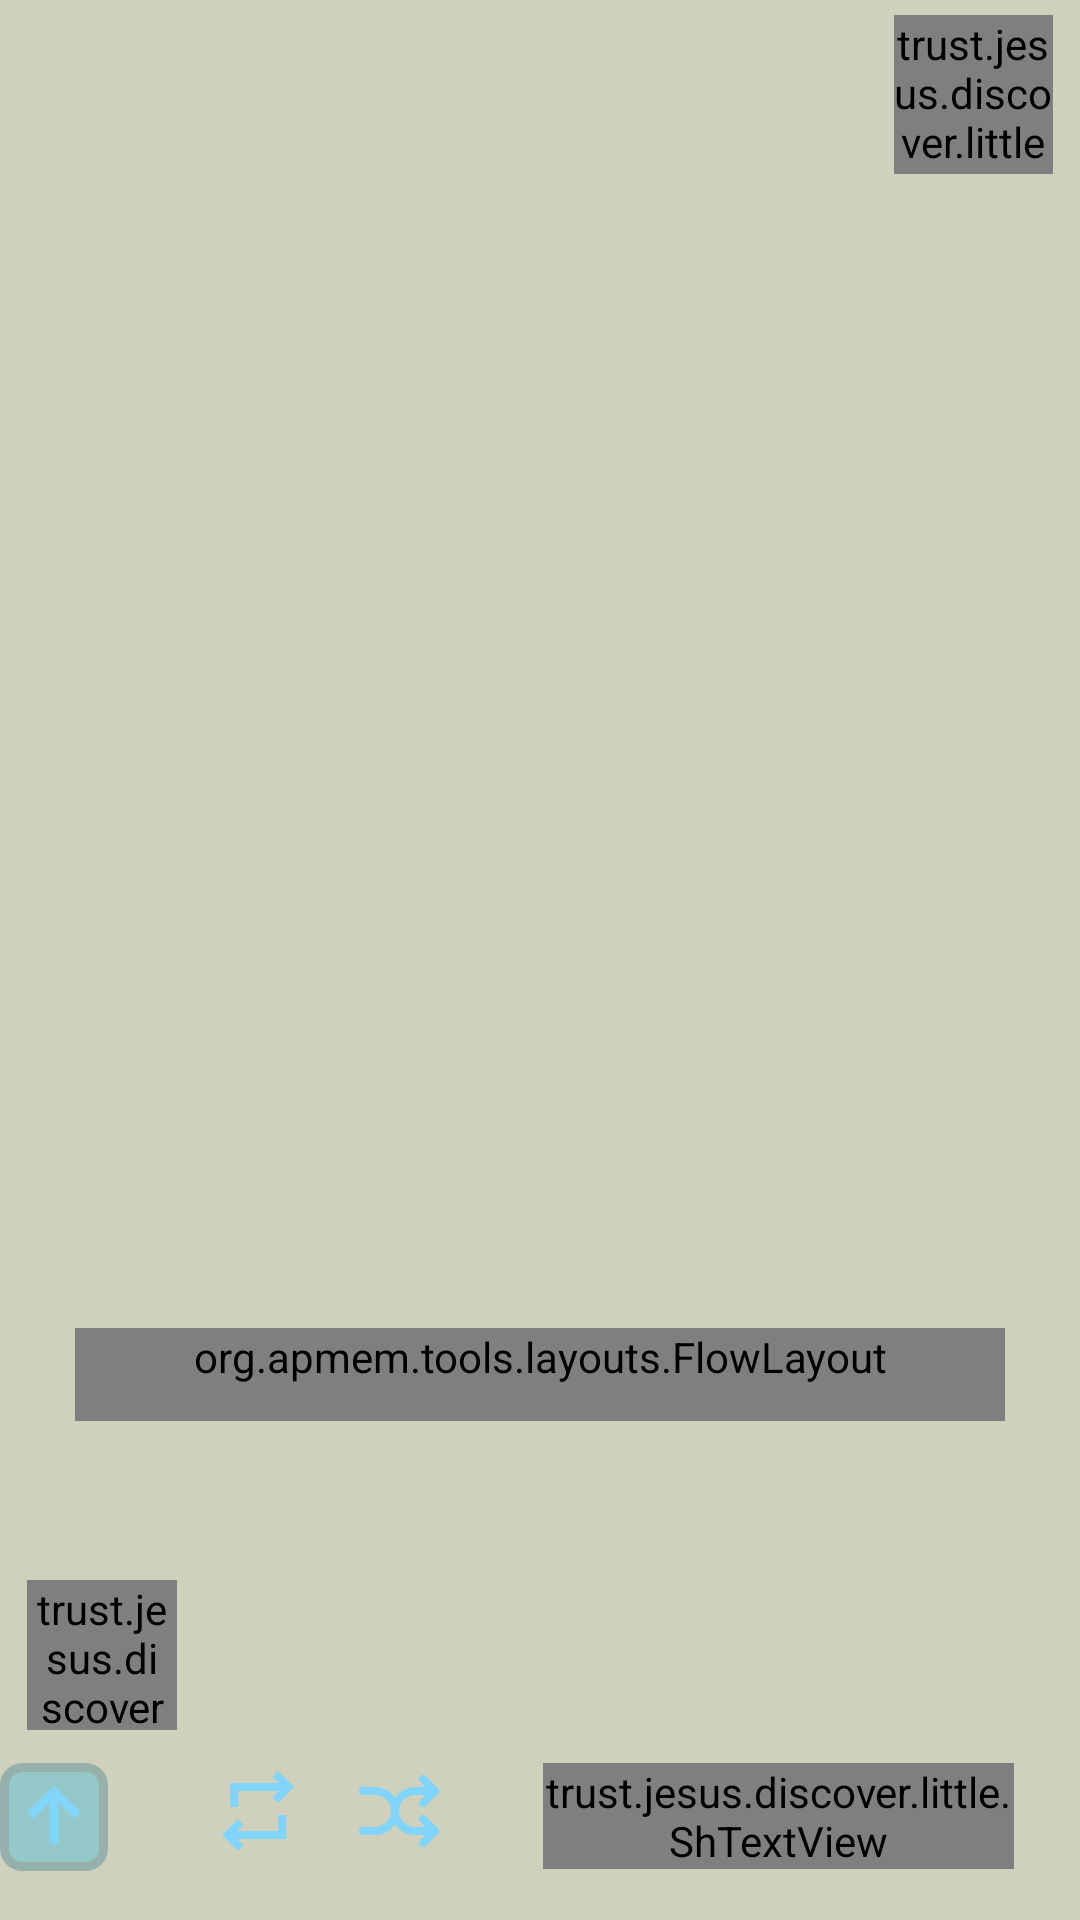

Where icons sit on this 1080w x 1920h app screen, as box=[x1, y1, x2, y2]:
arrow upward: box=[0, 1763, 108, 1871]
